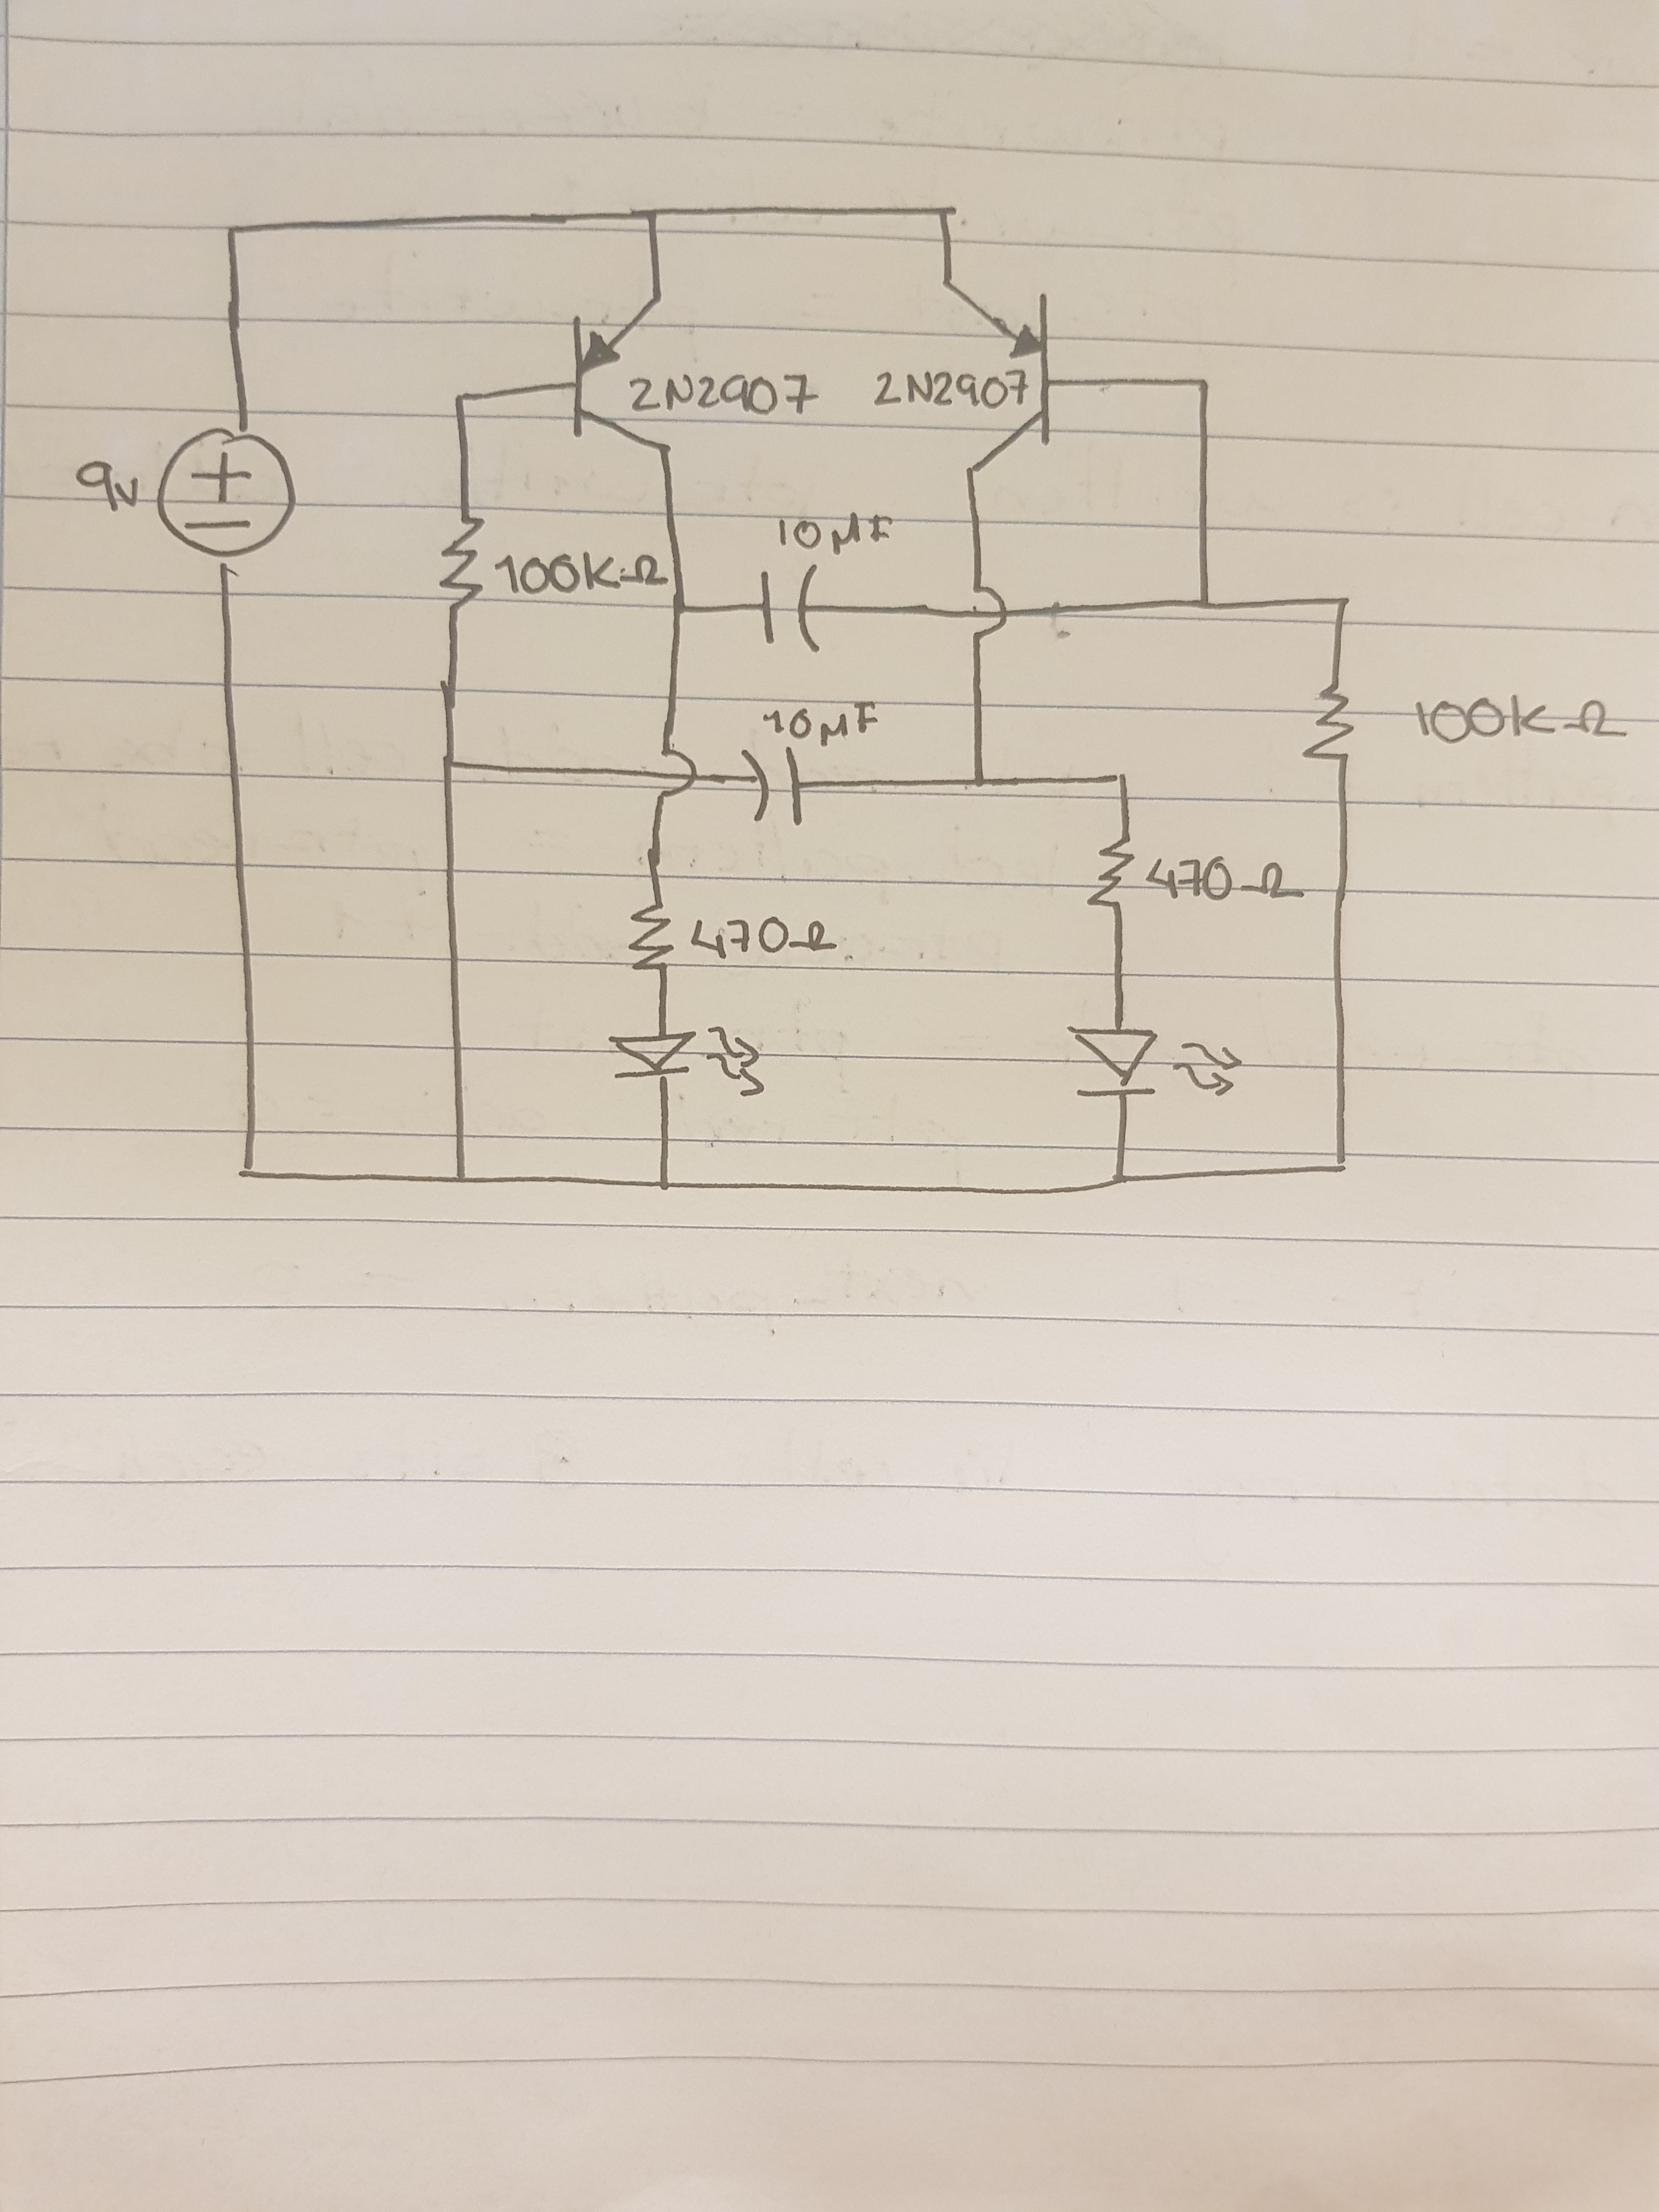capacitor.unpolarized: (751, 559, 828, 658), (735, 738, 810, 829)
crossover: (650, 745, 699, 805), (965, 580, 1011, 643)
diode.light_emitting: (1063, 1021, 1249, 1106), (603, 1024, 769, 1101)
junction: (1323, 1151, 1359, 1186), (1185, 585, 1220, 622), (227, 1150, 260, 1186), (441, 1162, 477, 1195), (645, 1167, 681, 1200), (1187, 364, 1220, 399), (962, 768, 997, 799), (1328, 590, 1363, 618), (931, 200, 964, 226), (1103, 1162, 1131, 1191), (638, 200, 667, 228), (434, 749, 465, 775), (446, 385, 477, 409), (664, 597, 692, 624), (221, 212, 246, 242), (1105, 765, 1131, 787)
resistor: (434, 503, 490, 620), (1082, 833, 1147, 920), (1298, 681, 1361, 770), (624, 892, 678, 977)
text: (1410, 693, 1633, 749), (626, 371, 821, 423), (871, 368, 1033, 418), (1145, 853, 1309, 902), (690, 916, 843, 963), (491, 554, 657, 597), (774, 512, 899, 556), (760, 700, 878, 745), (68, 455, 145, 521)
transistor: (931, 266, 1061, 481), (561, 287, 681, 462)
voltage.dc: (146, 423, 305, 563)
